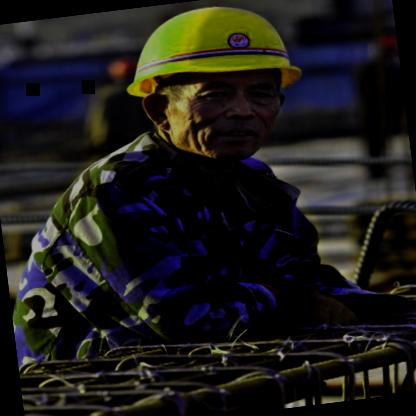helmet: (94, 0, 329, 181)
